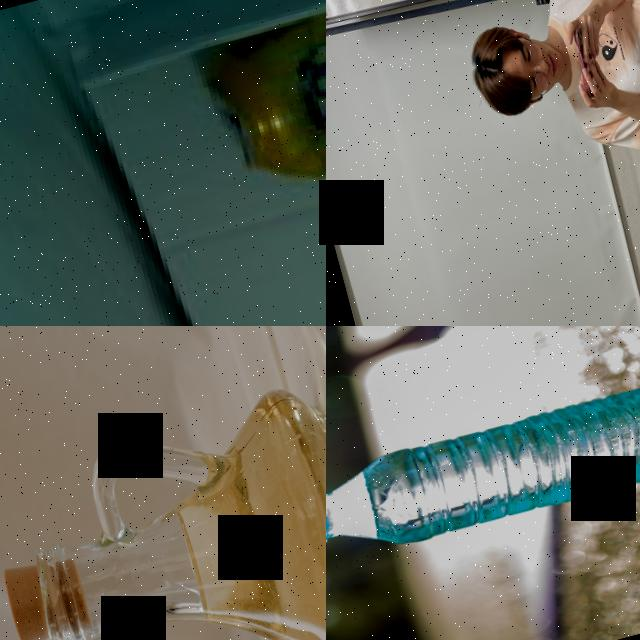bottle: (326, 354, 640, 580)
